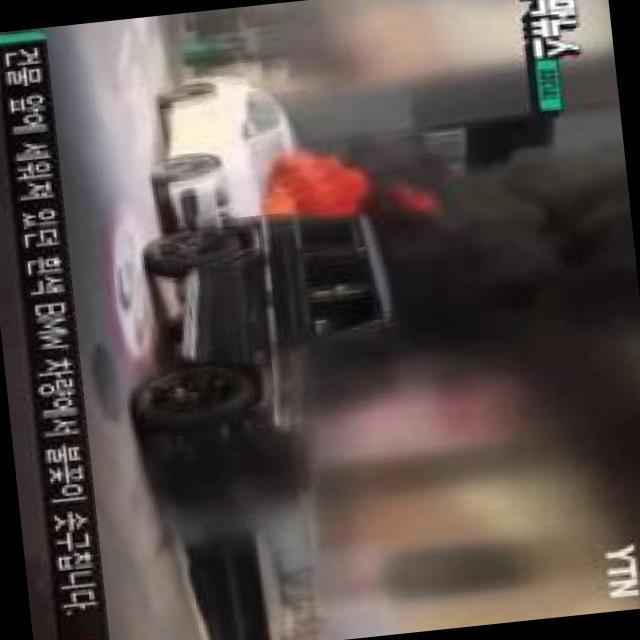Fire: (260, 167, 332, 215)
